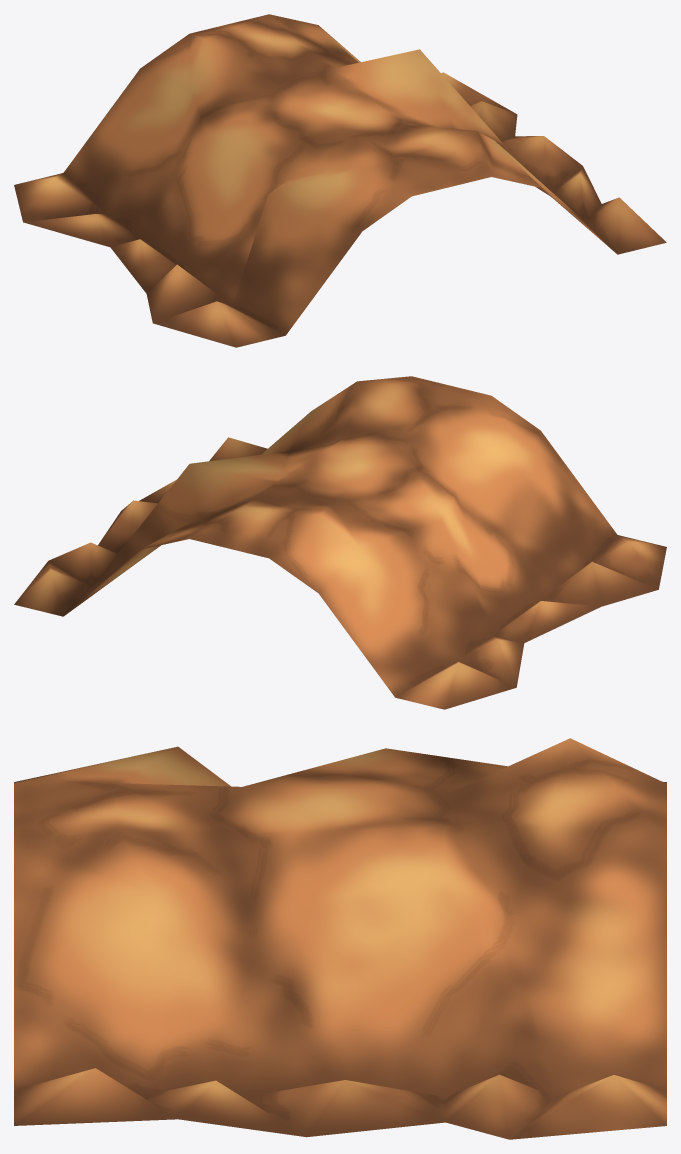
The model's file is mogura_tunnel.fbx.
3 views of the same model, one above another, from view 1: azimuth 30°, elevation 25°; view 2: azimuth 150°, elevation 25°; view 3: azimuth 270°, elevation 25° (orthographic). The views are drawn at different scales.
Parts seen in each view (by area): view 1: Mogura_tunnel; view 2: Mogura_tunnel; view 3: Mogura_tunnel.
Part boxes in pixels (x1=…): Mogura_tunnel: x1=14, y1=14, x2=666, y2=347; Mogura_tunnel: x1=14, y1=376, x2=666, y2=709; Mogura_tunnel: x1=14, y1=738, x2=666, y2=1139.
Size of the model in its own units: 6.35 by 1.63 by 5.01.
